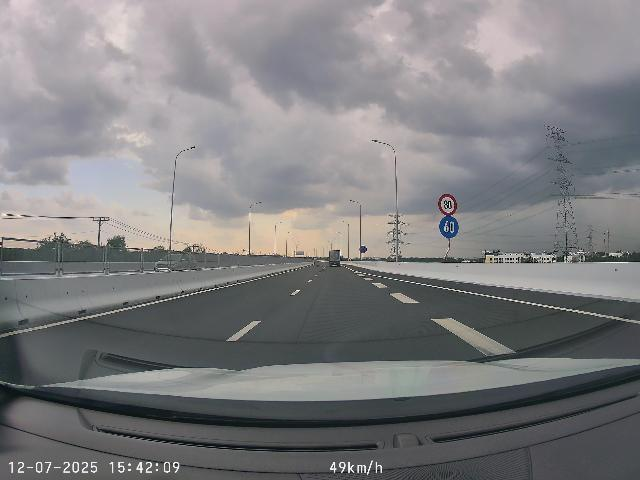127-toc-do-toi-da-80: (438, 193, 458, 216)
306-toc-do-toi-thieu-60: (439, 216, 459, 238)
